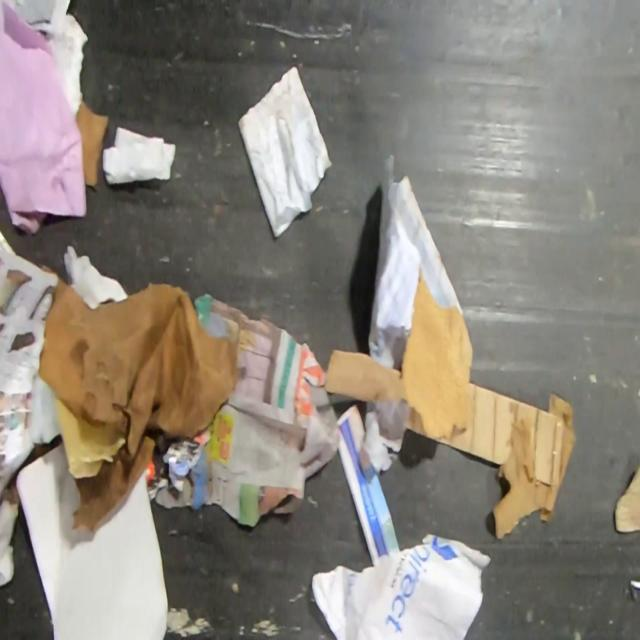cardboard: (324, 263, 578, 539), (75, 97, 112, 188), (614, 464, 640, 534)
